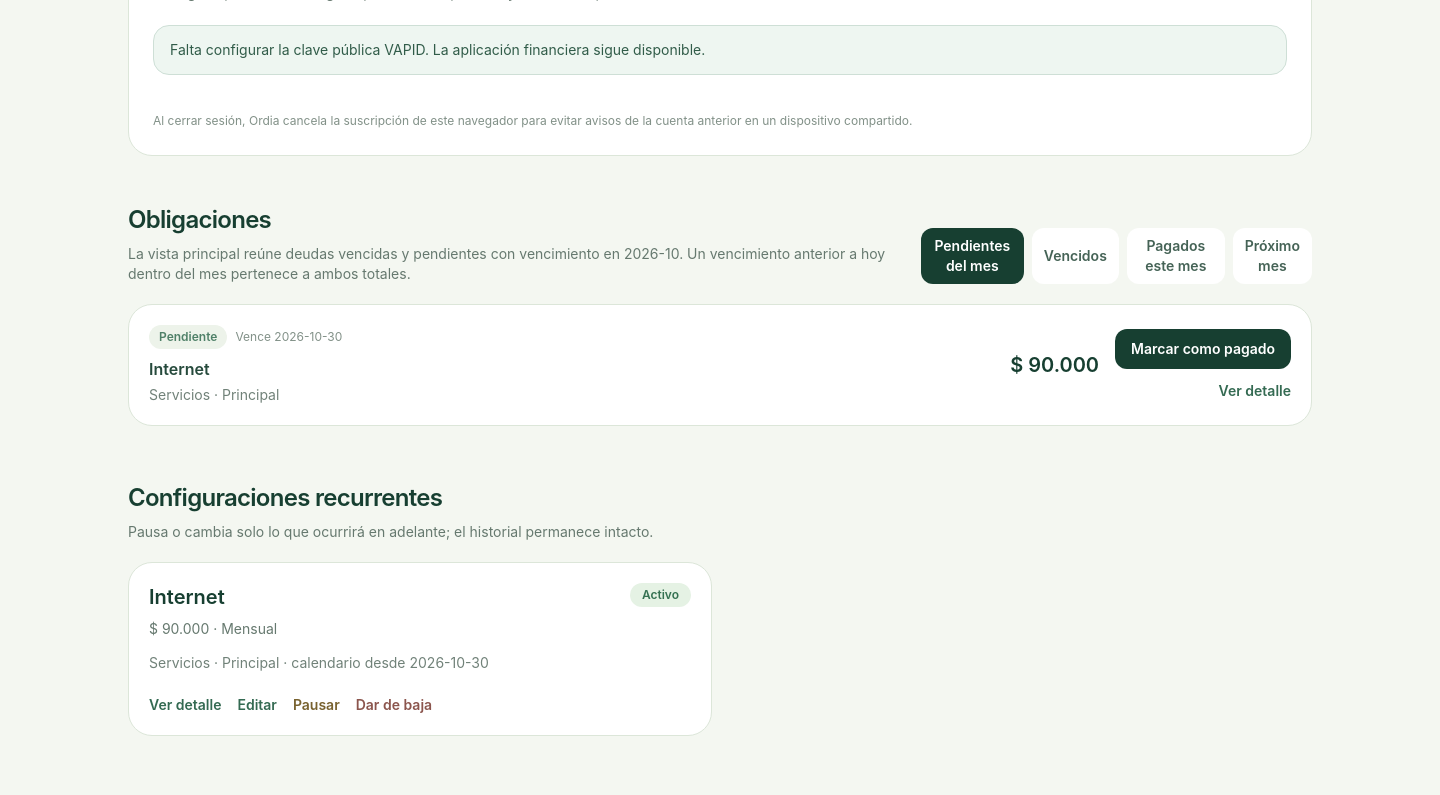
Test case: gastos fijos › mantiene vencimientos futuros e historial pagado en el detalle
(page scrolled)
Step 1. Click the 1st button "Ver detalle" → (1255, 390), box 1219,380 -> 1291,400
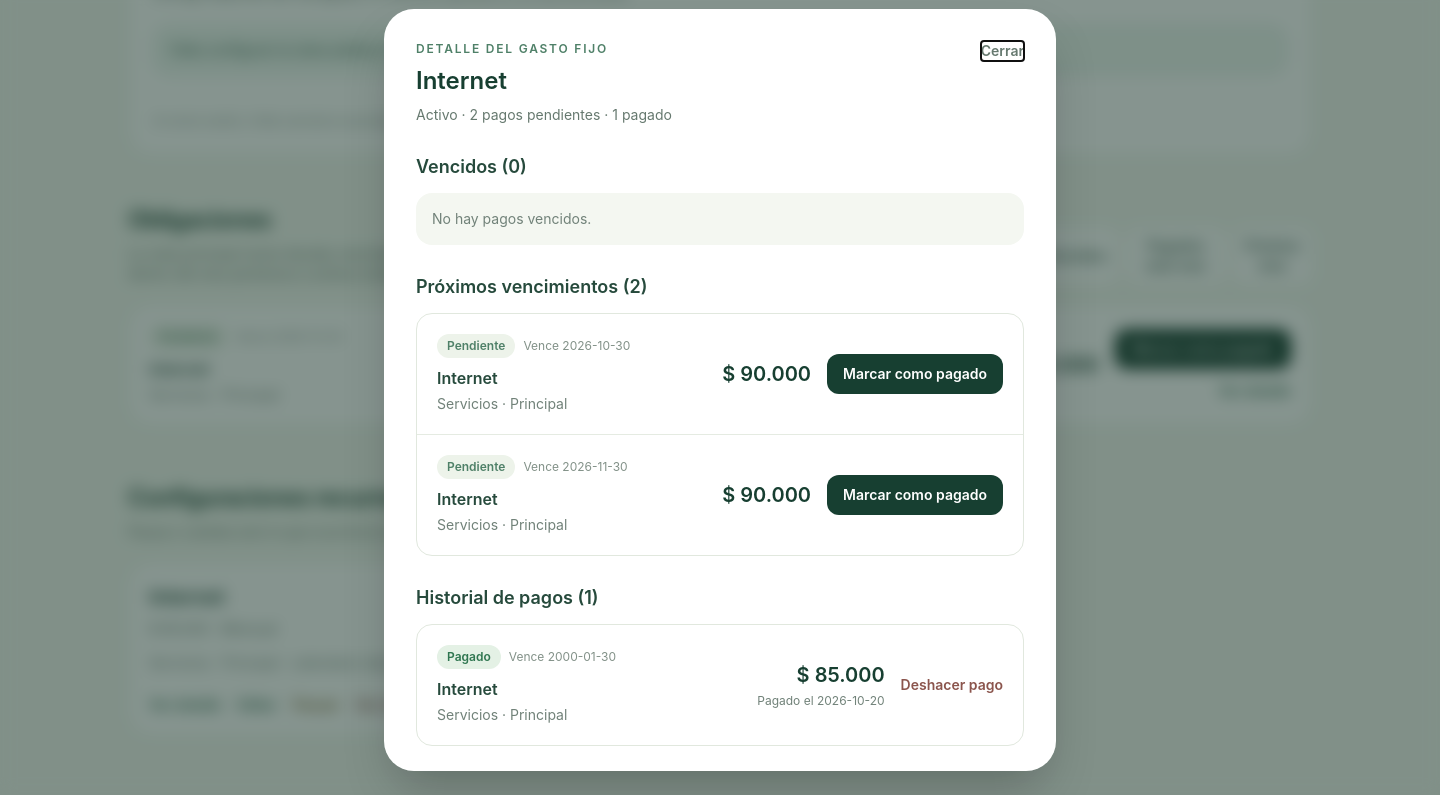
Result: the heading "Próximos vencimientos (2)" is shown at 416,276 -> 647,297
Result: the text "Vence 2026-10-30" is shown at 523,338 -> 630,354
Result: the text "Vence 2026-11-30" is shown at 523,459 -> 628,475
